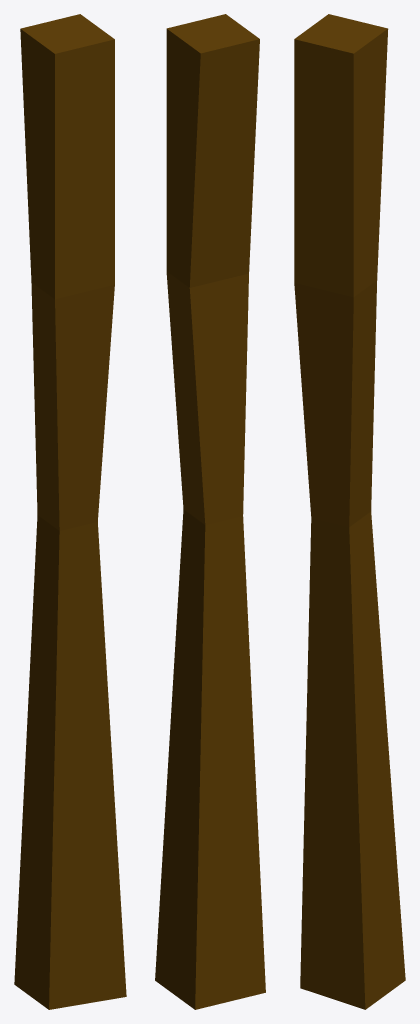
Rendered from SM_CornerWall_Test.fbx.
3 views of the same model, side by side, from view 1: azimuth 30°, elevation 25°; view 2: azimuth 210°, elevation 25°; view 3: azimuth 330°, elevation 25° (orthographic).
Visible parts, largest first — view 1: SM_Corner; view 2: SM_Corner; view 3: SM_Corner.
Boxes of the visible parts, x1,y1,x2,y2 form: SM_Corner: (14, 14, 126, 1009); SM_Corner: (155, 14, 265, 1009); SM_Corner: (294, 14, 405, 1009).
Bounding box in the file's own units: 31.23 × 400 × 30.67.
